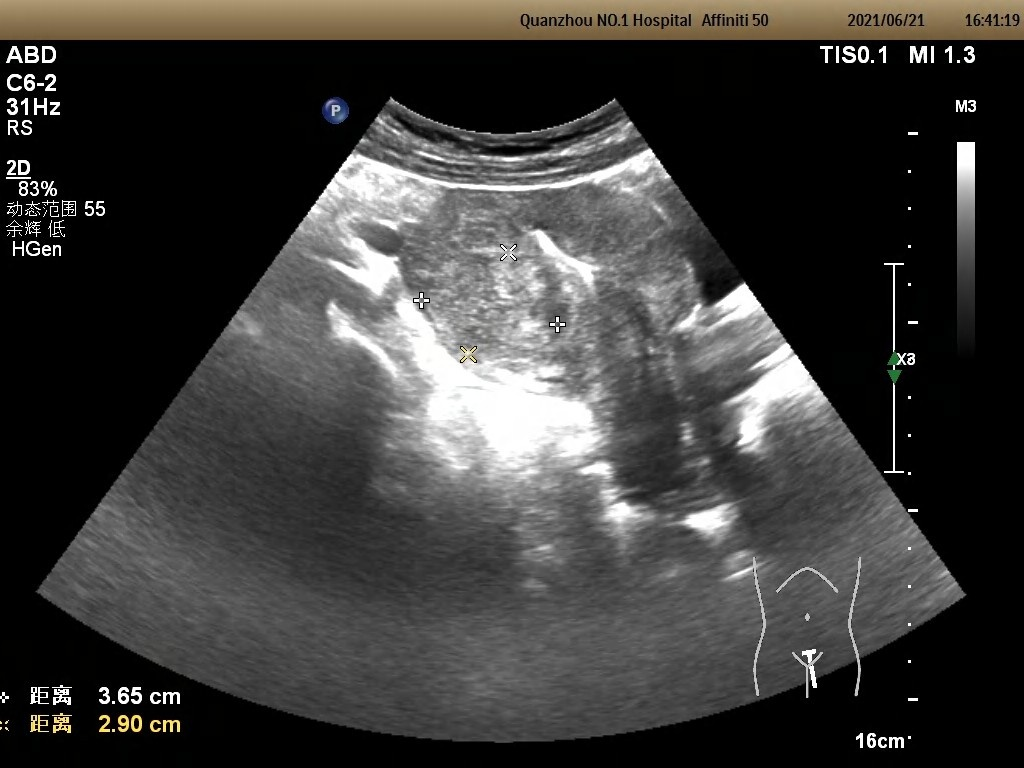肌瘤: (425, 262, 560, 354)
